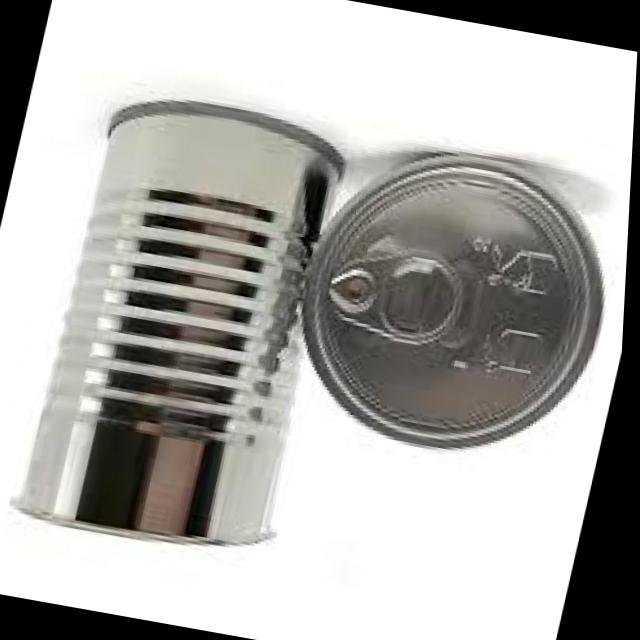metal: (18, 103, 342, 542), (273, 111, 631, 472)
